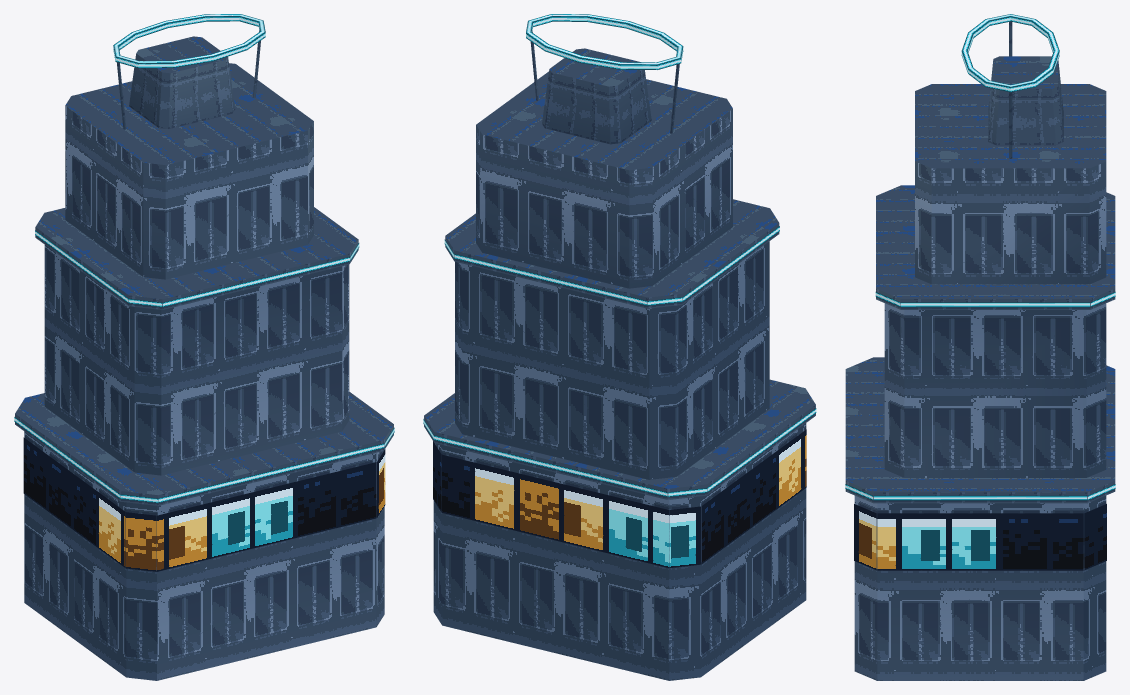
File: cytower.setback__halo.glb
3 renders of one model, left to right at view 1: azimuth 30°, elevation 25°; view 2: azimuth 150°, elevation 25°; view 3: azimuth 270°, elevation 25°, orthographic. The views are drawn at different scales.
Parts seen in each view (by area): view 1: kit_tower, kit_card_windows, kit_crown; view 2: kit_tower, kit_card_windows, kit_crown; view 3: kit_tower, kit_card_windows, kit_crown.
Boxes of the visible parts, x1,y1,x2,y2 form: kit_tower: [15, 36, 393, 680]; kit_card_windows: [14, 230, 394, 571]; kit_crown: [113, 14, 265, 129]; kit_tower: [424, 48, 815, 680]; kit_card_windows: [423, 226, 816, 568]; kit_crown: [526, 14, 683, 133]; kit_tower: [845, 56, 1115, 680]; kit_card_windows: [845, 292, 1115, 570]; kit_crown: [961, 14, 1059, 158].
Size of the model in its own units: 12.75 by 24.81 by 10.75.
6 materials, 6 textured.
